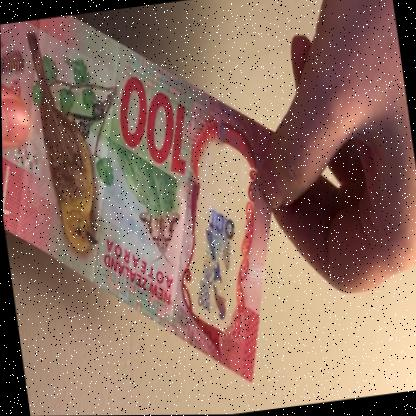100B: (181, 202, 248, 326)
